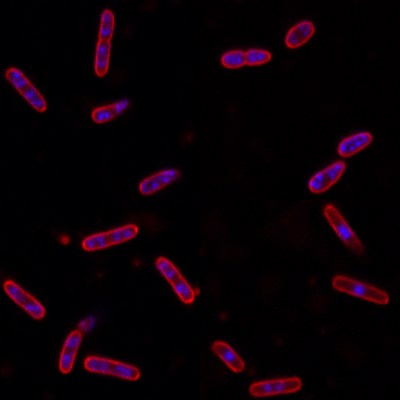Control: (4, 66, 48, 113), (154, 255, 196, 304), (82, 354, 141, 384), (3, 279, 46, 320), (81, 223, 139, 253), (92, 9, 115, 78)
MP265: (306, 160, 346, 194), (221, 47, 272, 70), (336, 131, 373, 159), (284, 19, 315, 49)
Nalidixate: (332, 273, 390, 306), (248, 376, 303, 398), (211, 339, 245, 373)
Oblique: (57, 315, 97, 376), (322, 203, 365, 254), (136, 167, 182, 196), (89, 97, 135, 124)
Vesicle: (57, 233, 71, 247)
